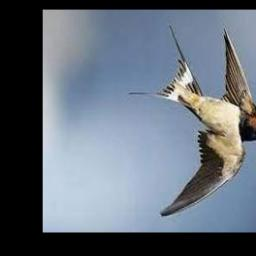Swallow: (129, 26, 256, 218)
